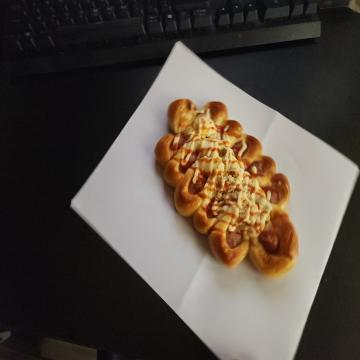pizza_bread: (157, 97, 303, 282)
